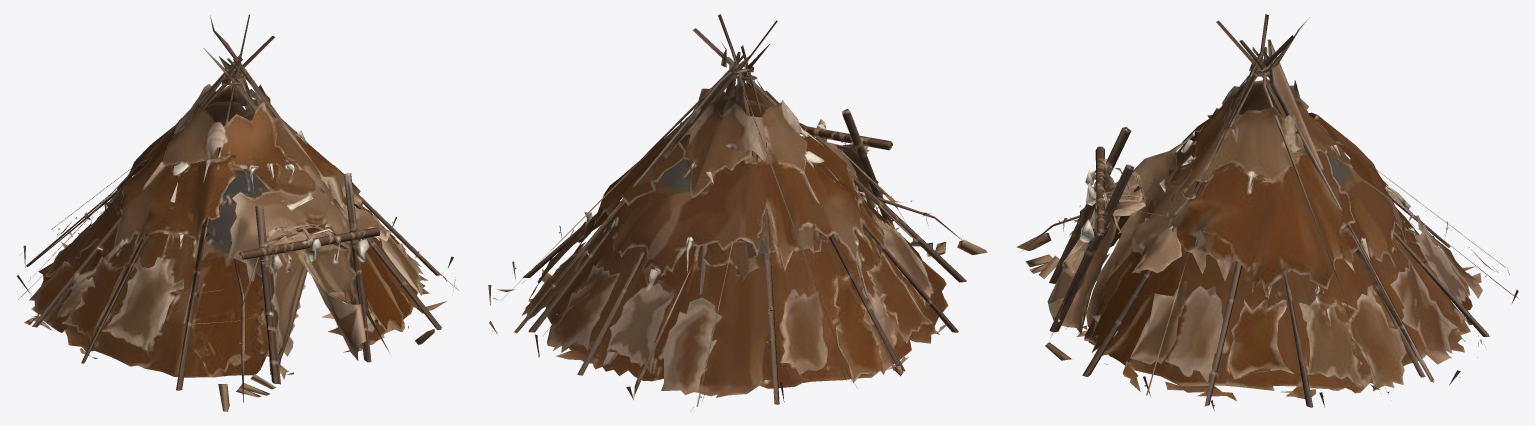
The model's file is zelt.glb.
3 views of the same model, side by side, from view 1: azimuth 30°, elevation 25°; view 2: azimuth 150°, elevation 25°; view 3: azimuth 270°, elevation 25° (orthographic). The views are drawn at different scales.
Bounding box in the file's own units: 0.8911 × 0.6157 × 0.9521.
1 material, 1 textured.
